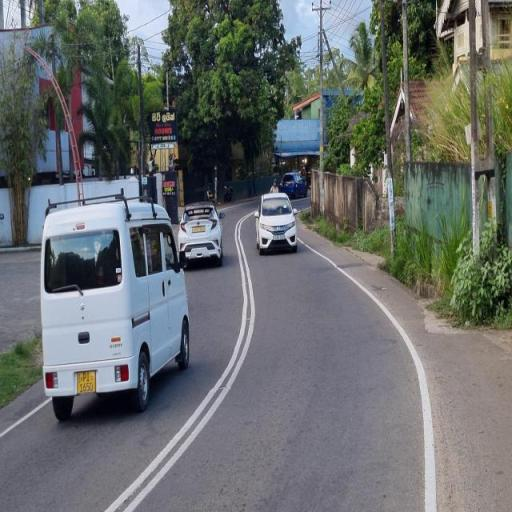double_white_line: (108, 212, 254, 510)
